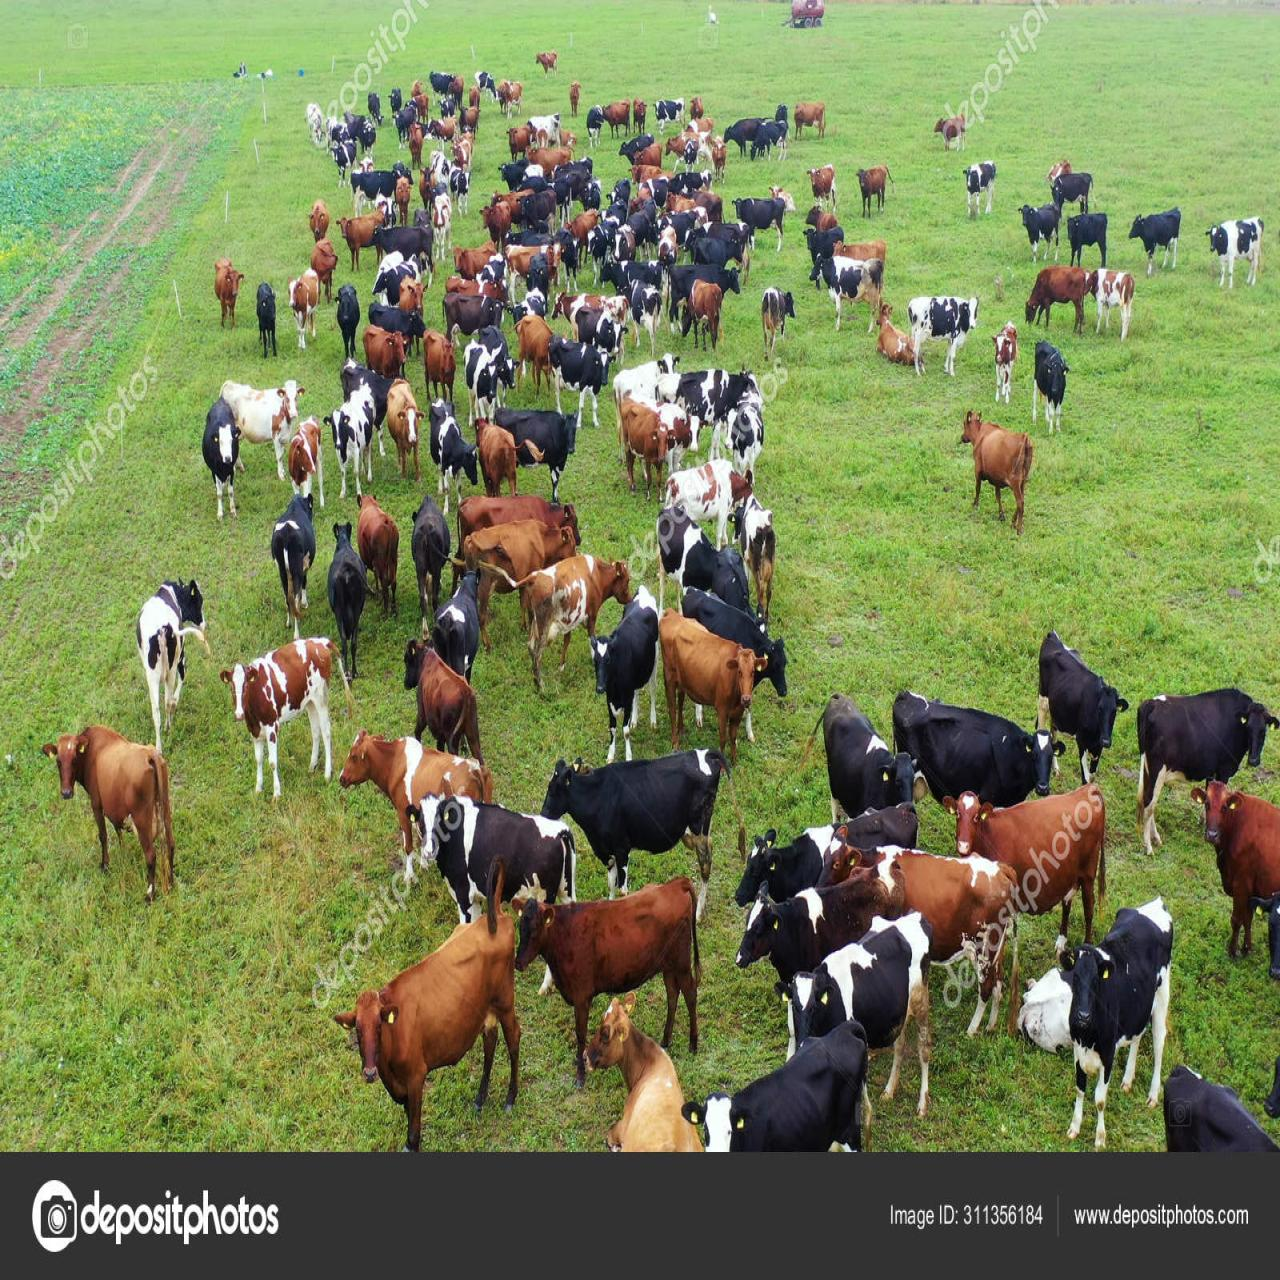cow: (336, 915, 524, 1153), (1014, 903, 1176, 1146), (515, 883, 710, 1060), (852, 844, 1022, 1028), (788, 911, 937, 1115), (40, 708, 184, 907), (738, 853, 914, 1016), (547, 738, 729, 893), (731, 801, 915, 949), (956, 779, 1114, 945), (894, 695, 1064, 844), (1131, 686, 1272, 851), (686, 1036, 873, 1156), (219, 626, 343, 799), (339, 719, 495, 855), (435, 796, 586, 931), (578, 993, 697, 1155), (661, 613, 784, 753), (516, 547, 640, 676), (456, 517, 586, 636), (1036, 635, 1133, 790), (1203, 778, 1280, 964), (644, 498, 743, 633), (129, 579, 204, 743), (456, 492, 588, 567), (669, 366, 762, 470), (594, 599, 658, 751), (824, 722, 918, 823), (220, 376, 305, 477), (959, 410, 1034, 519), (427, 565, 490, 686), (490, 404, 579, 490), (806, 252, 899, 334), (665, 452, 757, 532), (379, 369, 437, 493), (408, 652, 478, 754), (602, 404, 679, 498), (666, 261, 741, 355), (401, 492, 450, 622), (349, 497, 402, 618), (319, 380, 373, 493), (906, 291, 979, 374), (328, 551, 370, 689), (200, 400, 244, 531), (425, 399, 482, 497), (544, 339, 607, 423), (866, 293, 927, 379), (719, 389, 769, 492), (270, 513, 315, 622), (1027, 266, 1099, 334), (471, 414, 523, 506), (1205, 216, 1266, 291), (680, 282, 737, 359), (281, 413, 331, 499), (611, 353, 676, 415), (1089, 267, 1141, 340), (639, 409, 707, 464), (1130, 204, 1185, 271), (354, 320, 407, 386), (733, 195, 794, 250), (1035, 342, 1070, 434), (350, 169, 408, 219), (422, 327, 459, 402), (723, 117, 783, 161), (333, 271, 361, 362), (421, 332, 456, 403), (1063, 207, 1109, 261), (1049, 168, 1095, 220), (990, 324, 1020, 401), (290, 271, 321, 341), (760, 285, 794, 348), (964, 162, 999, 220), (1024, 203, 1064, 254), (257, 286, 285, 358), (213, 258, 241, 326), (857, 166, 890, 216), (794, 103, 826, 137), (933, 117, 964, 154), (810, 168, 839, 204), (306, 195, 331, 236), (649, 95, 683, 124), (538, 52, 561, 79)
